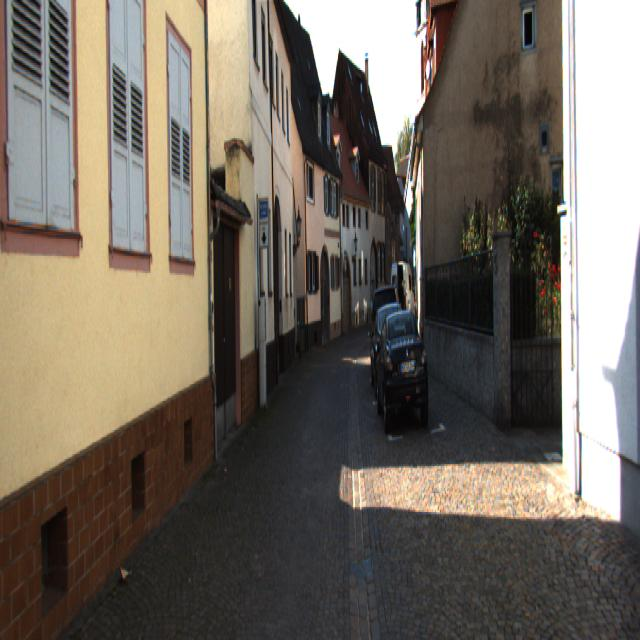Car: (374, 303, 430, 427), (370, 292, 410, 394), (368, 286, 401, 378), (391, 260, 416, 330)
